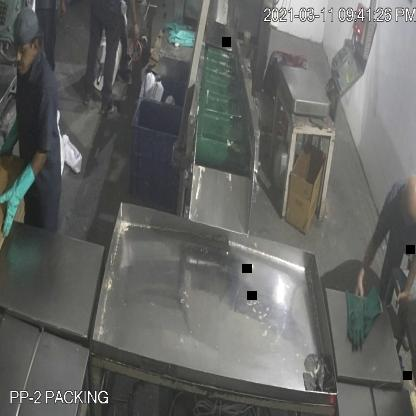glove: (0, 158, 38, 246)
no_glove: (349, 228, 380, 305), (397, 232, 416, 329), (126, 0, 146, 51)
